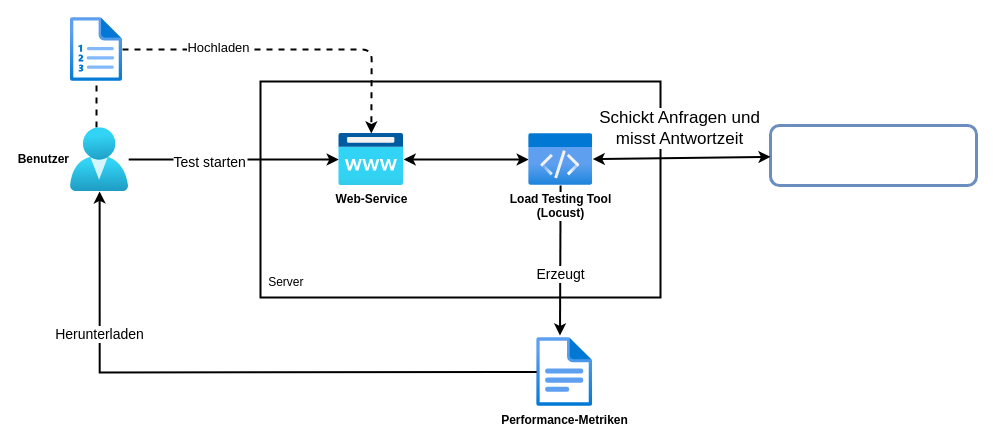
Some shapes in this 995 by 444 pixel diagram are drawn without their labels. Here are the shapes that lost their labels. From the top down, the centre of each, then its label:
[96,49]: Testspezifikation
[873,155]: System under Test (SUT)
